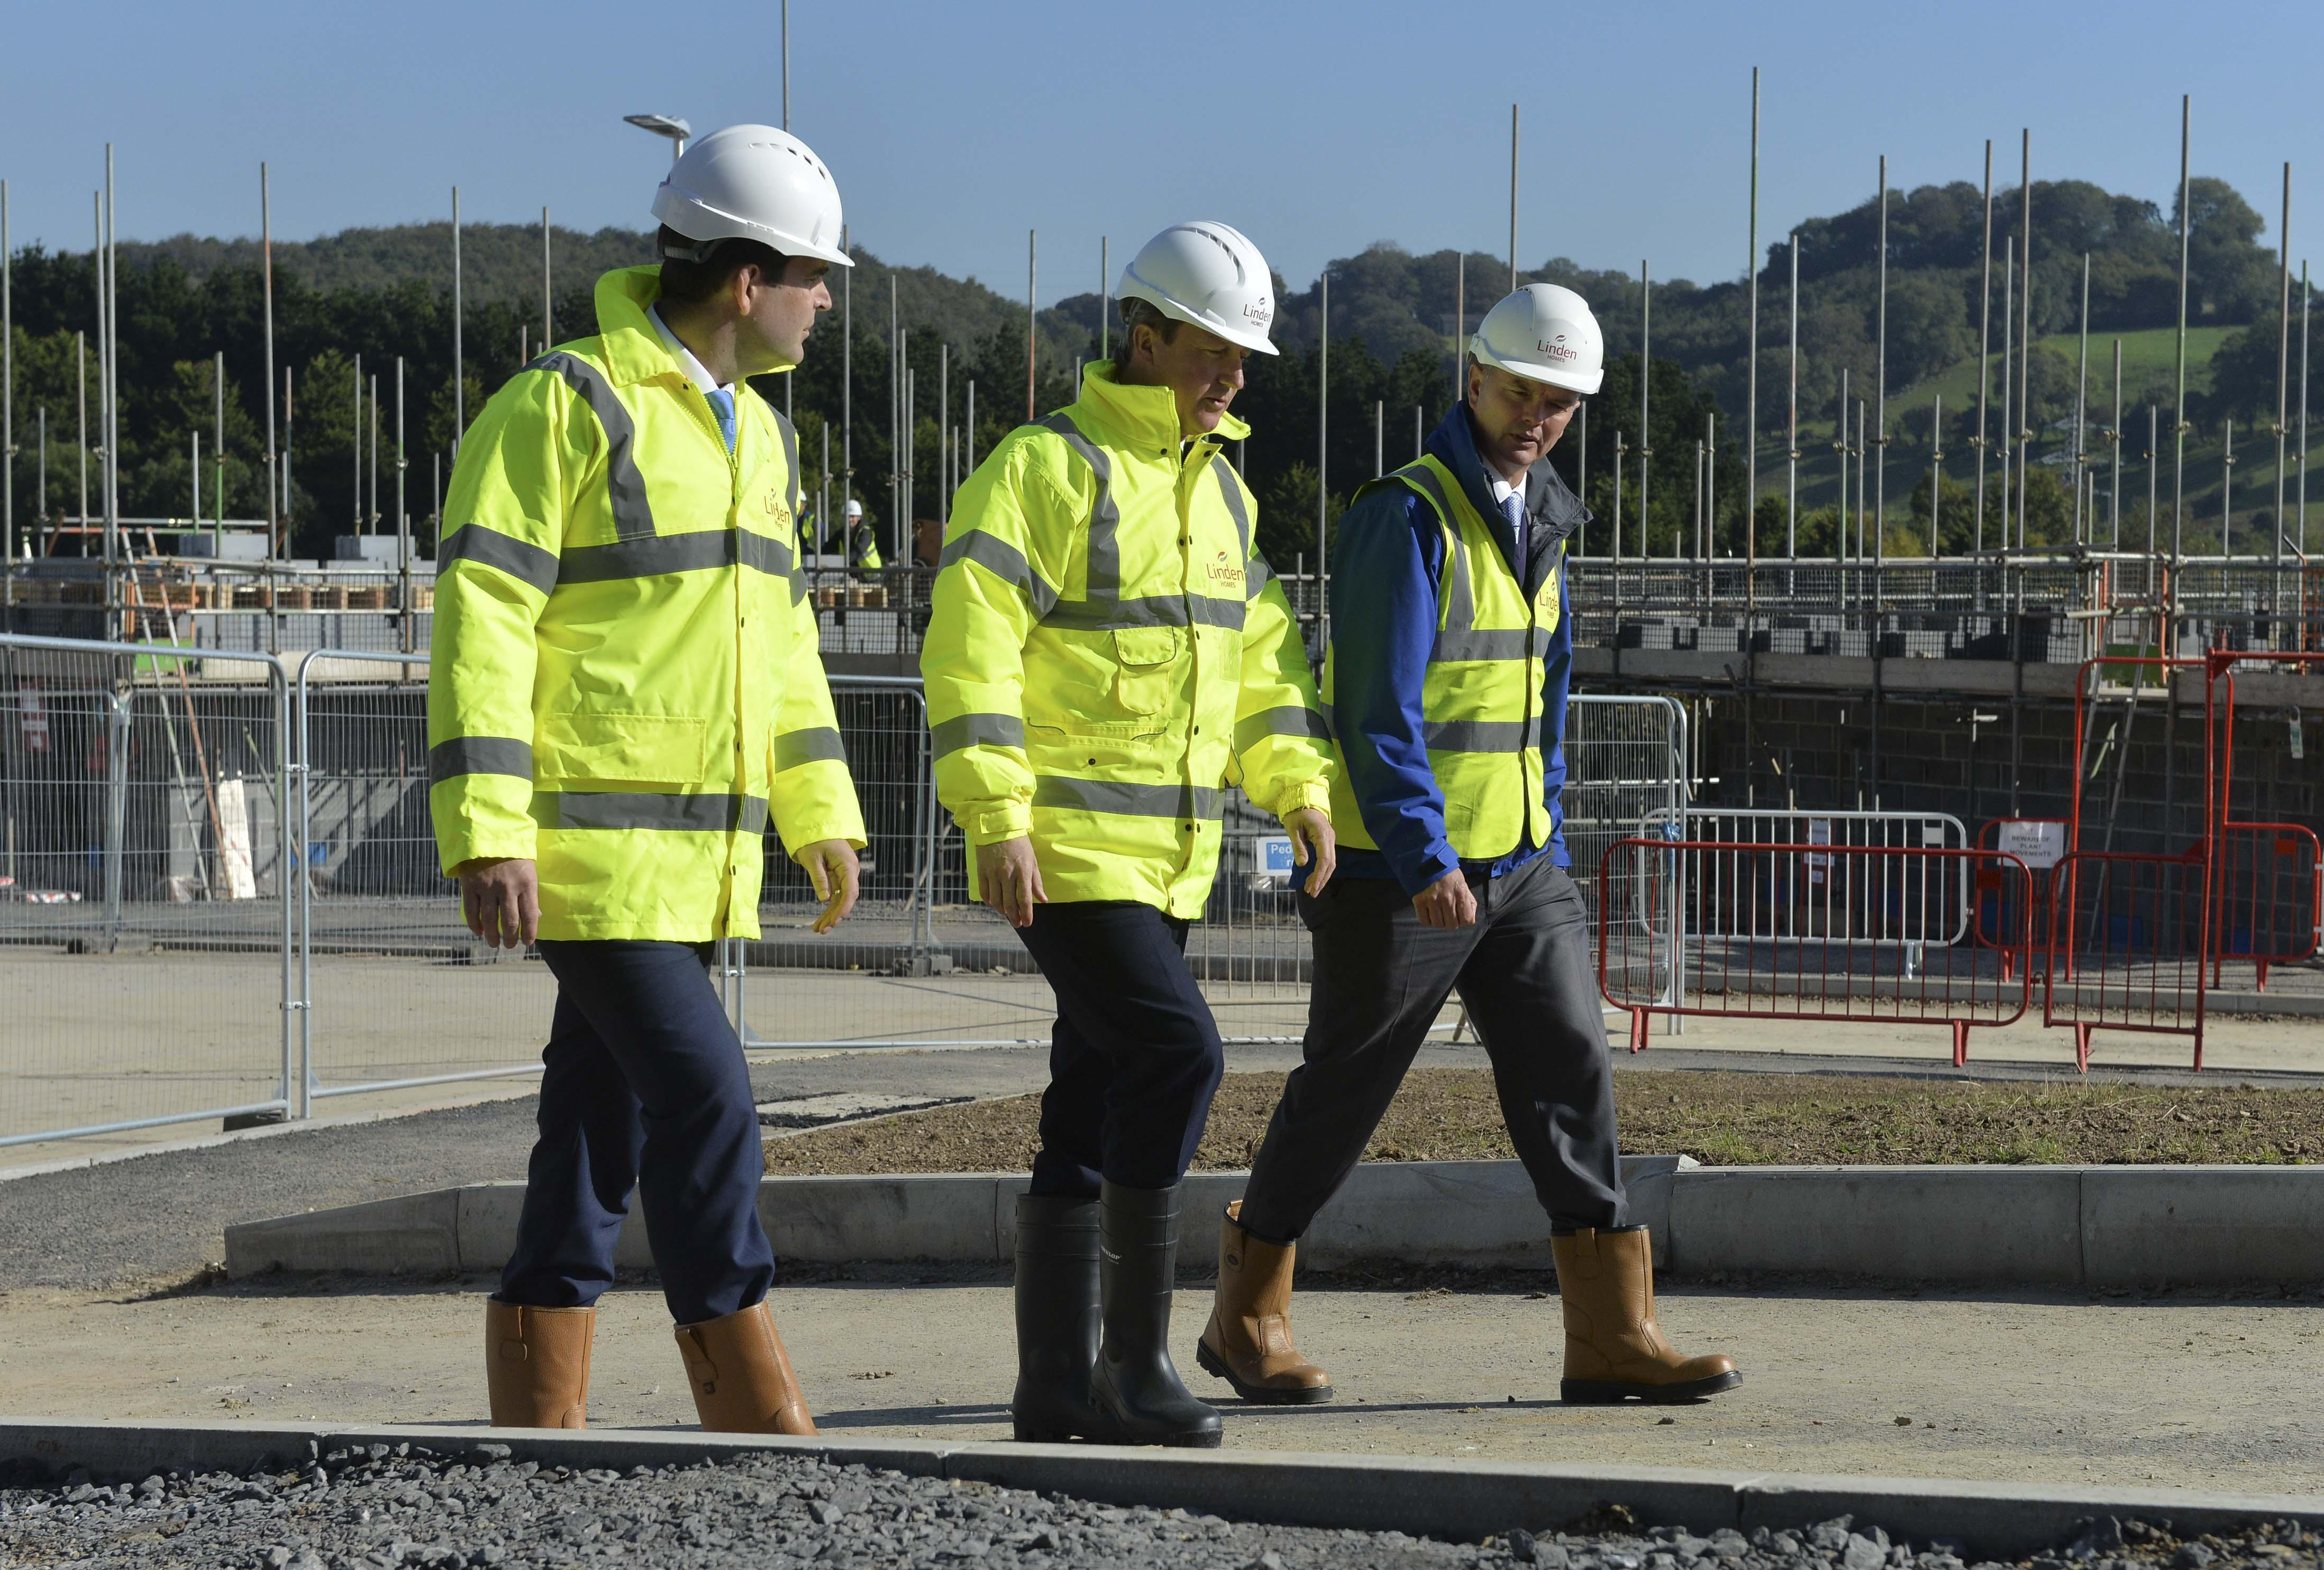vest: (445, 312, 830, 916), (947, 359, 1287, 894), (1340, 431, 1599, 862)
